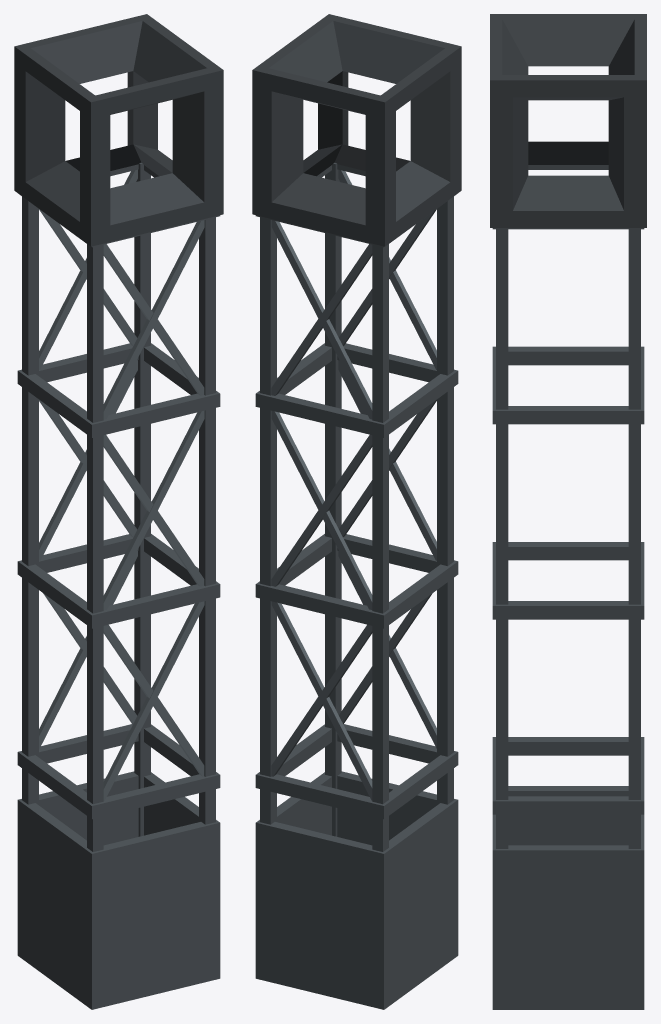
File: SM_Prop_Gantry_Support_01.fbx
3 views of the same model, side by side, from view 1: azimuth 30°, elevation 25°; view 2: azimuth 150°, elevation 25°; view 3: azimuth 270°, elevation 25° (orthographic). The views are drawn at different scales.
Parts seen in each view (by area): view 1: SM_Prop_Gantry_Support_01; view 2: SM_Prop_Gantry_Support_01; view 3: SM_Prop_Gantry_Support_01.
Boxes of the visible parts, left/top/right/bottom form: SM_Prop_Gantry_Support_01: left=14, top=14, right=223, bottom=1009; SM_Prop_Gantry_Support_01: left=252, top=14, right=461, bottom=1009; SM_Prop_Gantry_Support_01: left=490, top=14, right=646, bottom=1009.
Size of the model in its own units: 130 by 849 by 130.
